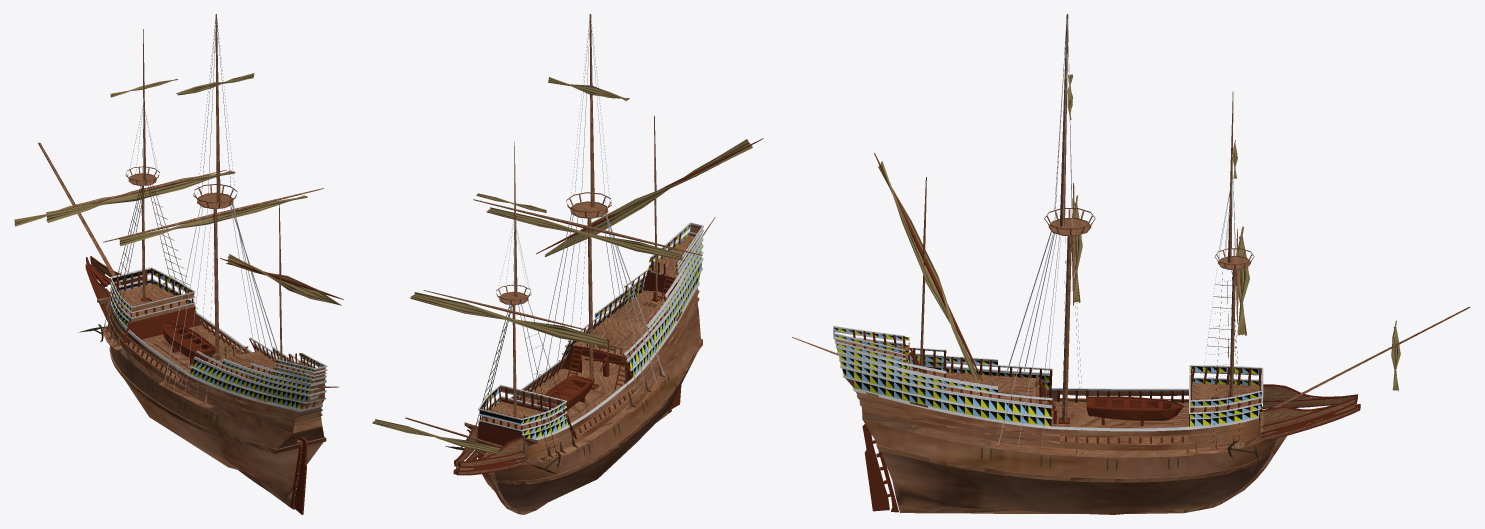
The model's file is MyFlower.FBX.
The picture shows the model from 3 angles, left to right: view 1: azimuth 30°, elevation 25°; view 2: azimuth 150°, elevation 25°; view 3: azimuth 270°, elevation 25°; orthographic projection. The views are drawn at different scales.
Visible parts, largest first — view 1: Loft05; view 2: Loft05; view 3: Loft05.
Part boxes in pixels (x1=…): Loft05: x1=14, y1=14, x2=343, y2=514; Loft05: x1=372, y1=14, x2=763, y2=514; Loft05: x1=792, y1=14, x2=1470, y2=514.
Size of the model in its own units: 10505 by 20034 by 24734.
